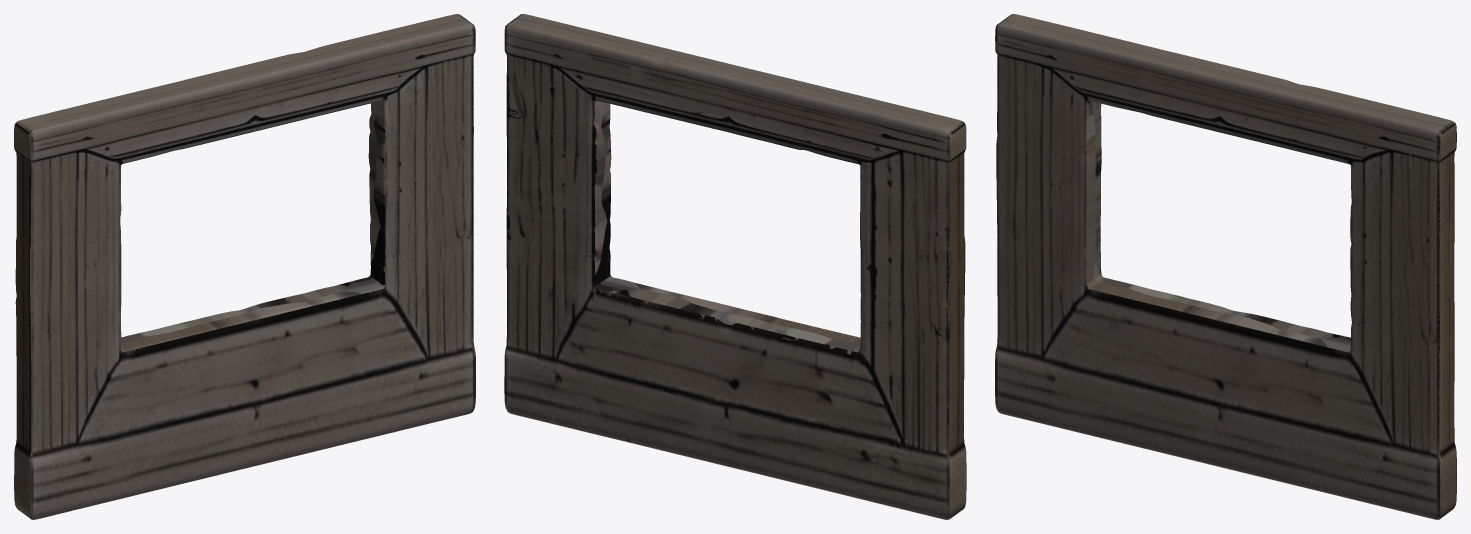
The model's file is Wall-Timber-3.glb.
3 views of the same model, side by side, from view 1: azimuth 30°, elevation 25°; view 2: azimuth 150°, elevation 25°; view 3: azimuth 330°, elevation 25° (orthographic).
Parts seen in each view (by area): view 1: tmpb0k_90su.ply; view 2: tmpb0k_90su.ply; view 3: tmpb0k_90su.ply.
Boxes of the visible parts, x1=… form: tmpb0k_90su.ply: x1=14, y1=14, x2=475, y2=519; tmpb0k_90su.ply: x1=504, y1=14, x2=966, y2=519; tmpb0k_90su.ply: x1=995, y1=14, x2=1456, y2=519.
Bounding box in the file's own units: 3 × 2.5 × 0.2.
1 material, 1 textured.
